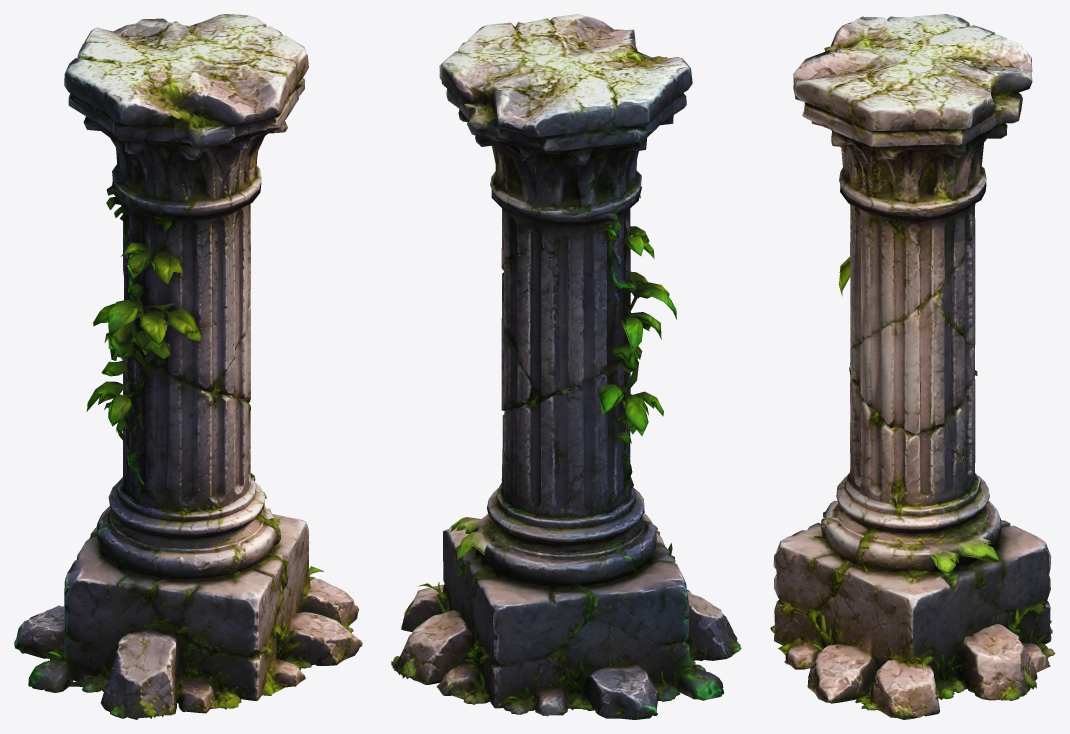
The model's file is gen_column.glb.
The picture shows the model from 3 angles, left to right: view 1: azimuth 30°, elevation 25°; view 2: azimuth 150°, elevation 25°; view 3: azimuth 270°, elevation 25°; orthographic projection. The views are drawn at different scales.
Visible parts, largest first — view 1: tripo_node_28179ac0-8c44-4925-8520-912c448852c7; view 2: tripo_node_28179ac0-8c44-4925-8520-912c448852c7; view 3: tripo_node_28179ac0-8c44-4925-8520-912c448852c7.
Boxes of the visible parts, left/top/right/bottom form: tripo_node_28179ac0-8c44-4925-8520-912c448852c7: left=14, top=14, right=362, bottom=719; tripo_node_28179ac0-8c44-4925-8520-912c448852c7: left=391, top=14, right=741, bottom=719; tripo_node_28179ac0-8c44-4925-8520-912c448852c7: left=770, top=14, right=1055, bottom=719.
Size of the model in its own units: 0.5544 by 0.9821 by 0.4337.
Materials: 1 (1 with a texture image).
